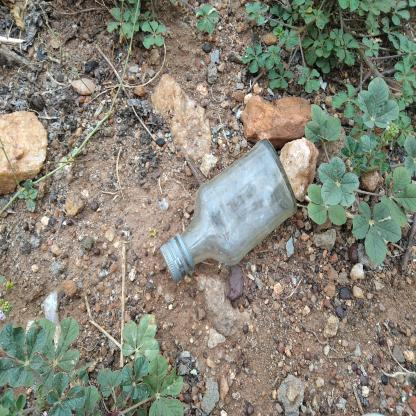bottle: (100, 211, 212, 395)
